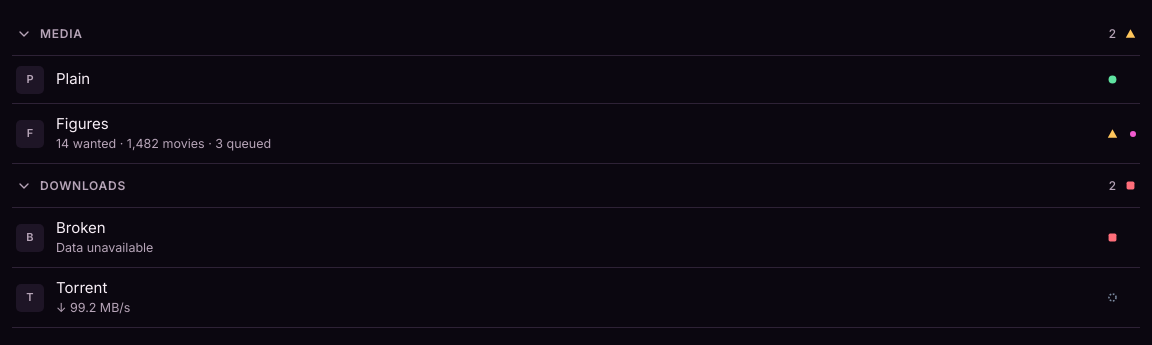
Test: PhoneServices › groups collapse and the choice is remembered
Click the button "Media 2": coordinates (61, 33) [12,12,1140,56]
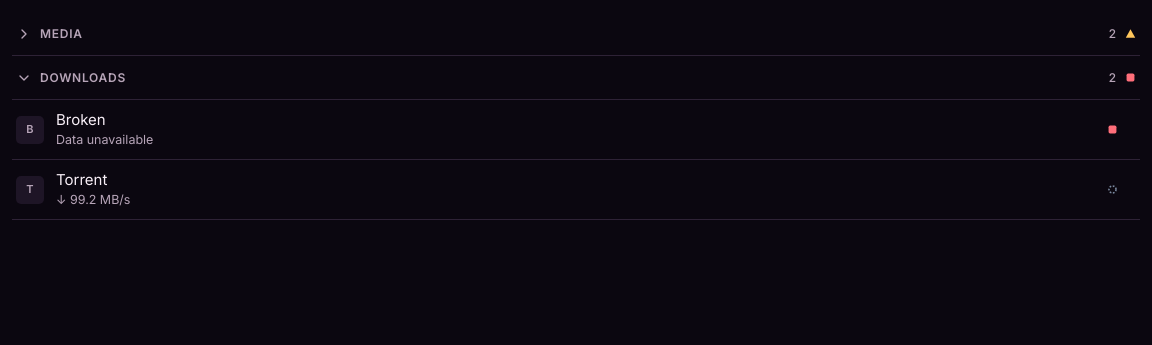
expect the button "T Torrent ↓ 99.2 MB/s" is shown: met, box [12,160,1140,220]
expect the button "Plain" is gone: met
